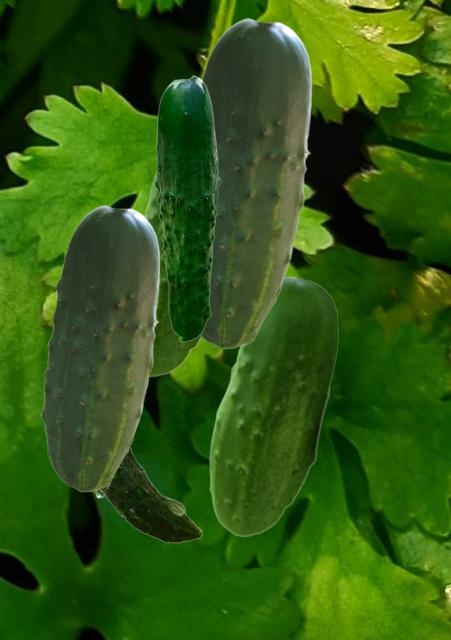cucumber: (199, 18, 311, 348), (41, 205, 159, 491), (209, 276, 337, 536), (154, 75, 220, 341), (143, 169, 201, 376), (93, 447, 201, 542)
